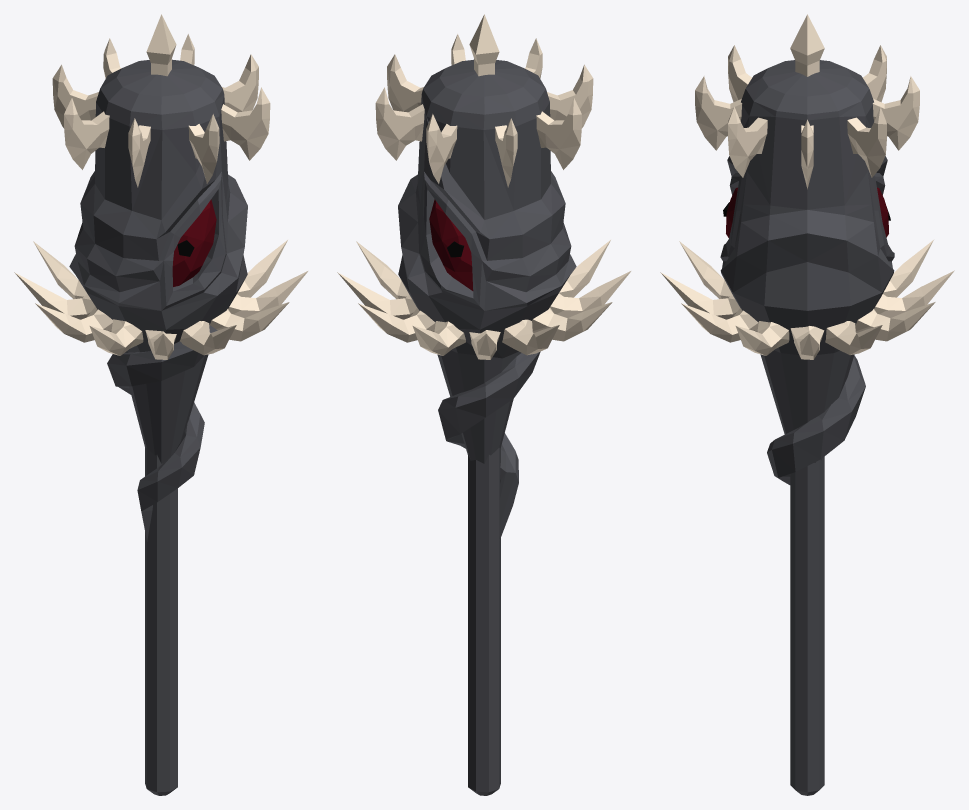
The model's file is _hammer_20.fbx.
The picture shows the model from 3 angles, left to right: view 1: azimuth 30°, elevation 25°; view 2: azimuth 150°, elevation 25°; view 3: azimuth 270°, elevation 25°; orthographic projection.
Parts seen in each view (by area): view 1: hammer_20; view 2: hammer_20; view 3: hammer_20.
Boxes of the visible parts, <box> form: hammer_20: <box>14,14,307,795</box>; hammer_20: <box>337,14,630,795</box>; hammer_20: <box>660,14,954,795</box>.
Size of the model in its own units: 28.54 by 83.12 by 28.54.
